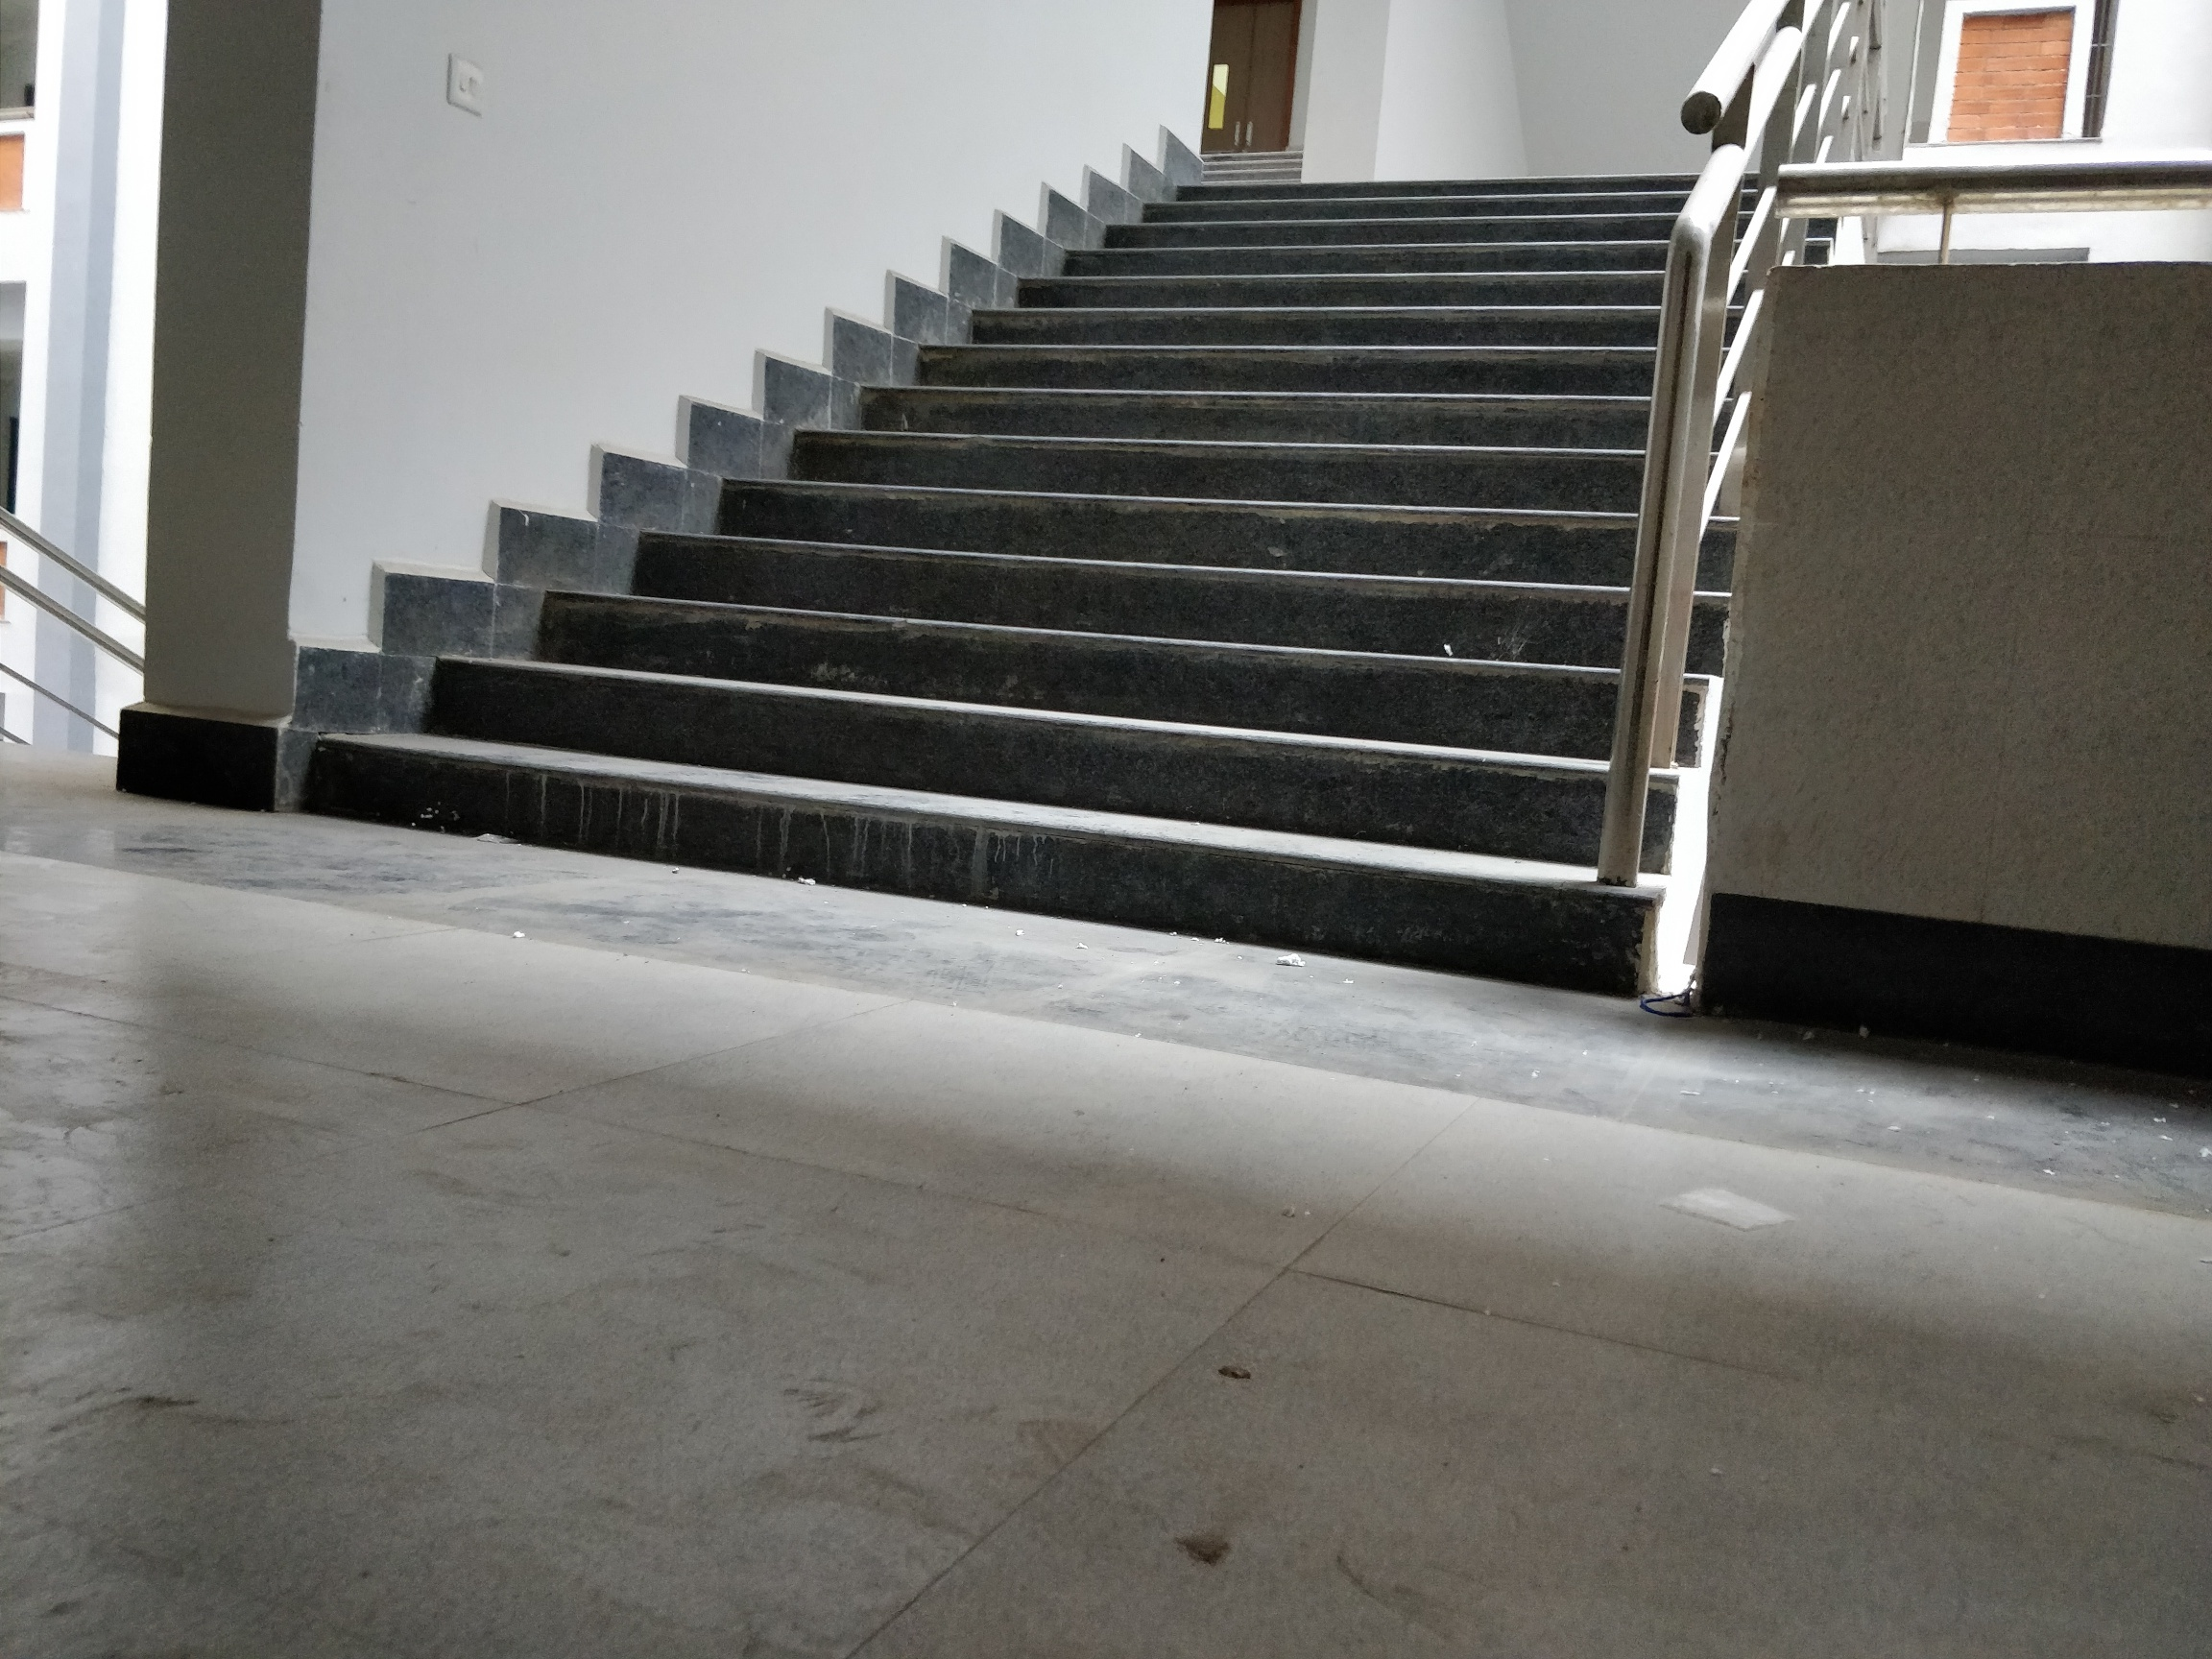stairs_up: (331, 181, 1761, 875)
